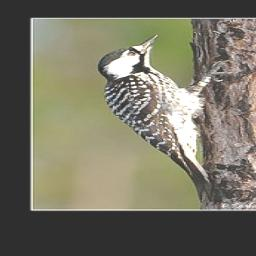Woodpecker: (97, 34, 240, 204)
